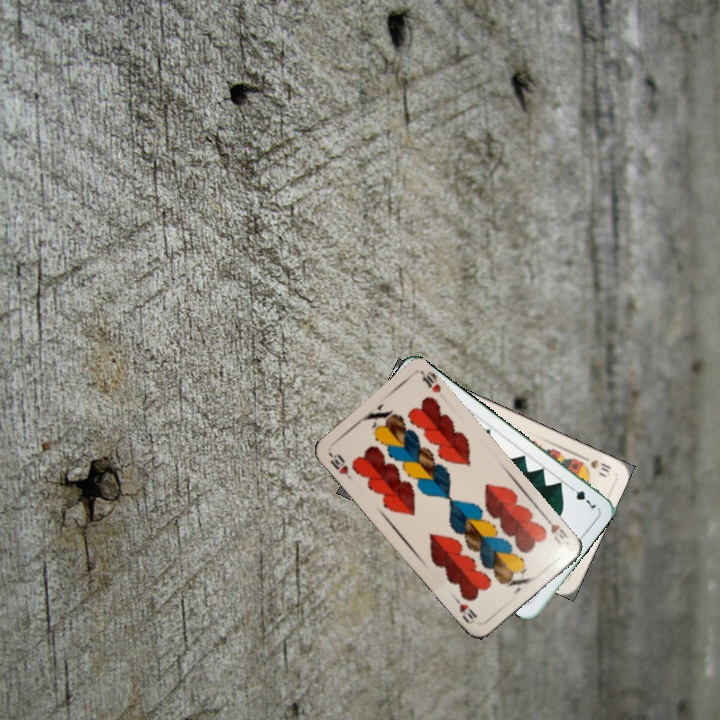G7: (565, 481, 599, 513)
H10: (540, 513, 571, 547), (325, 449, 355, 484)
S10: (577, 452, 614, 479)
